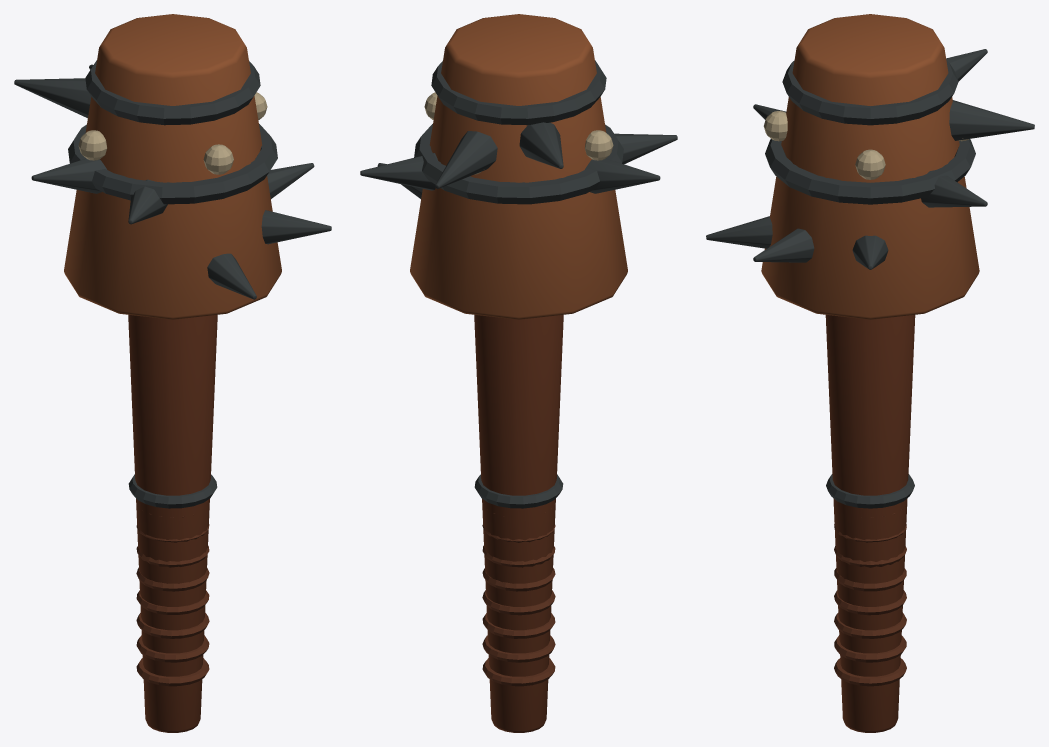
File: SM_Bram_OrcWarClub.fbx
3 renders of one model, left to right at view 1: azimuth 30°, elevation 25°; view 2: azimuth 150°, elevation 25°; view 3: azimuth 270°, elevation 25°, orthographic.
Visible parts, largest first — view 1: SM_Bram_OrcWarClub; view 2: SM_Bram_OrcWarClub; view 3: SM_Bram_OrcWarClub.
Part boxes in pixels (x1,y1,x2,y2): SM_Bram_OrcWarClub: [14, 14, 331, 732]; SM_Bram_OrcWarClub: [360, 14, 677, 732]; SM_Bram_OrcWarClub: [706, 14, 1034, 732].
Size of the model in its own units: 0.5323 by 0.5387 by 1.23.
